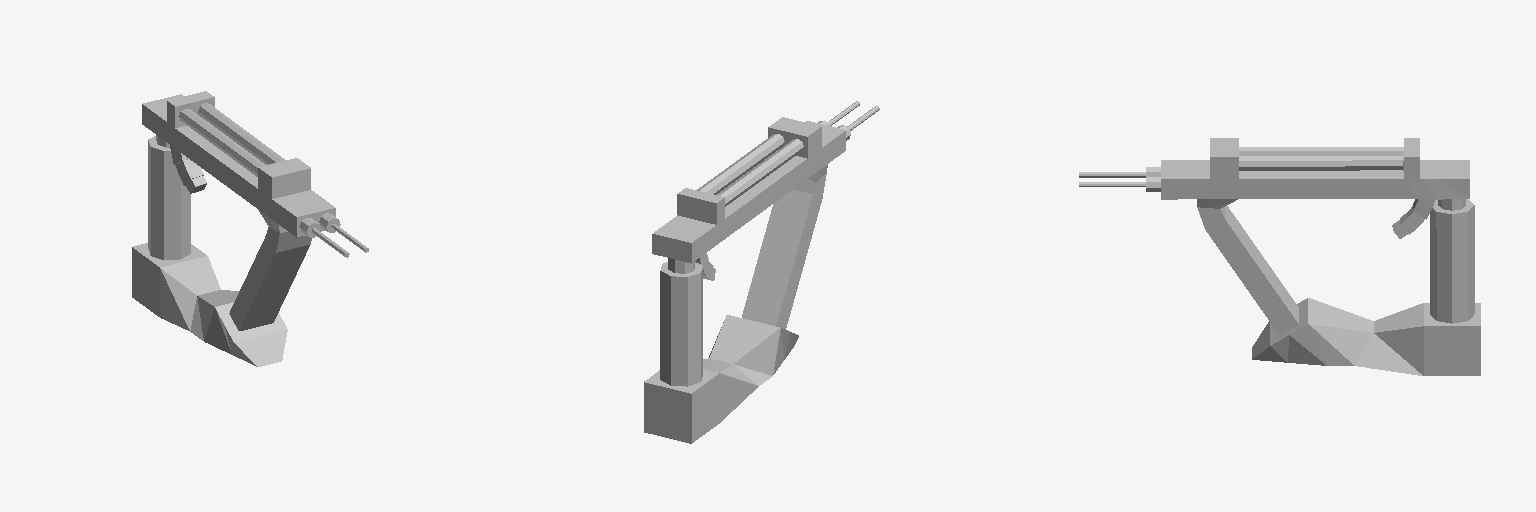
File: drill_for_game_scene.obj
3 views of the same model, side by side, from view 1: azimuth 30°, elevation 25°; view 2: azimuth 150°, elevation 25°; view 3: azimuth 270°, elevation 25° (orthographic).
Parts seen in each view (by area): view 1: asdf_dumb_Cube.001; view 2: asdf_dumb_Cube.001; view 3: asdf_dumb_Cube.001.
Boxes of the visible parts, x1,y1,x2,y2 form: asdf_dumb_Cube.001: [132, 91, 368, 366]; asdf_dumb_Cube.001: [644, 101, 879, 443]; asdf_dumb_Cube.001: [1079, 138, 1480, 375].
Size of the model in its own units: 2.37 by 8.66 by 14.5.